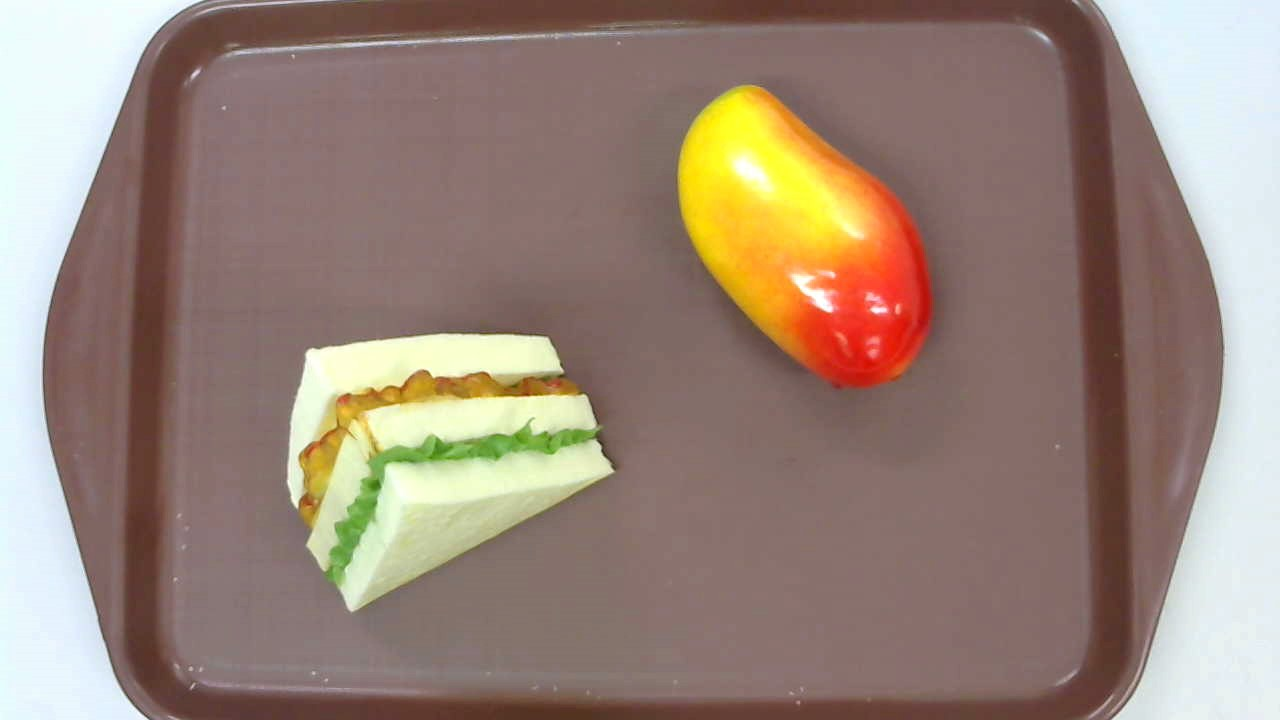red mango: (675, 83, 934, 390)
sandwich: (287, 332, 616, 613)
